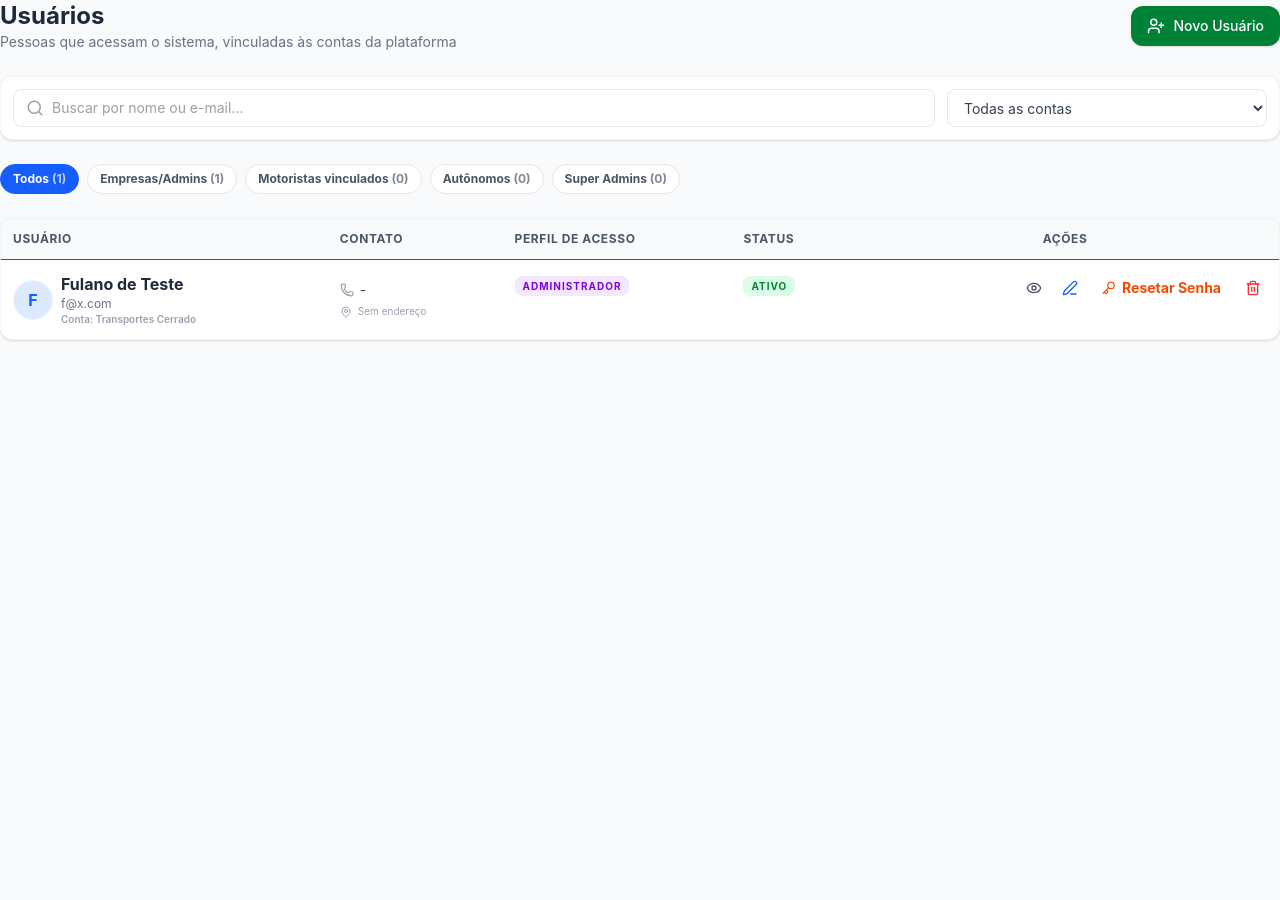
Test: Usuarios — correção da aceitação visual › TEAM-VIS-01: nenhuma conta é renderizada antes de buscar
The width and height of the screenshot is (1280, 900).
Expected: the text "Fulano de Teste" is shown, [61, 272, 196, 296]
Click the button "Novo Usuário" at [1206, 26], box [1132, 6, 1279, 46]
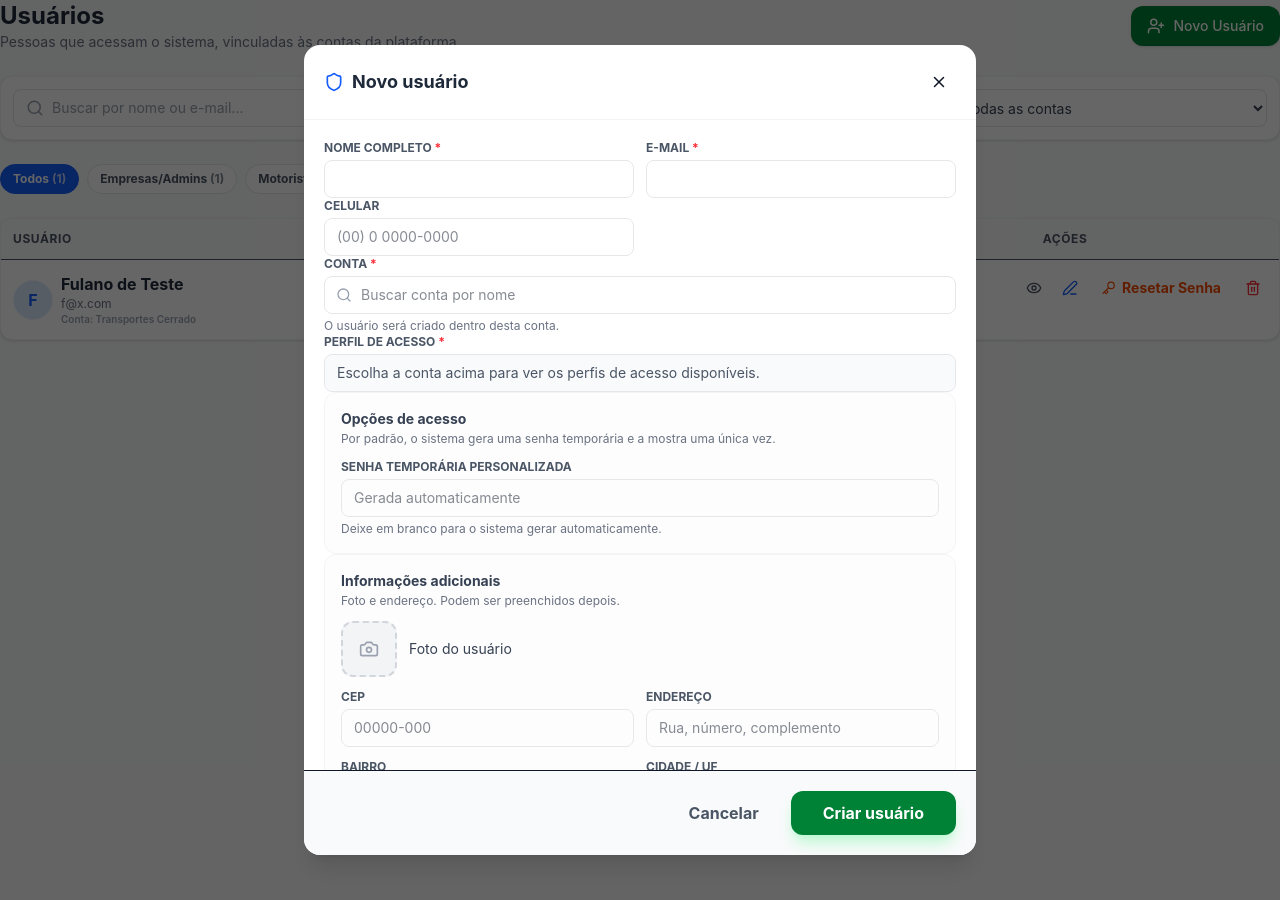
Expected: the dropdown labelled "Buscar conta por nome" is shown, [324, 276, 956, 314]
